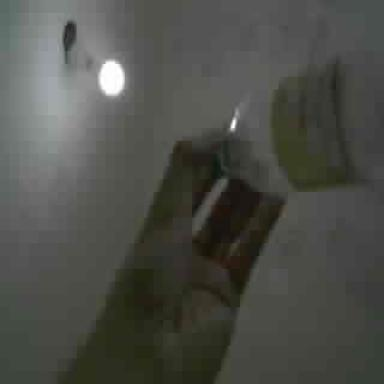bottle: (218, 58, 383, 194)
